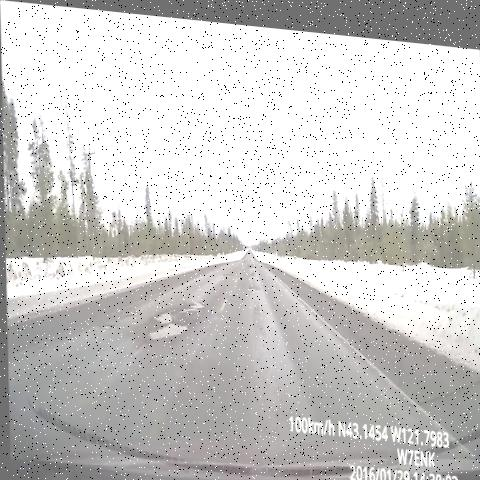pothole: (141, 301, 187, 347), (181, 283, 211, 316), (95, 313, 117, 338), (127, 296, 146, 321), (219, 260, 237, 278), (245, 276, 262, 294), (244, 252, 258, 268)
